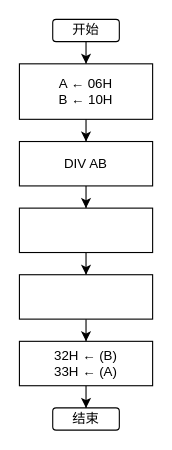
This 172x450 diagram has some shape labels left out. Each missing label, with the centre of its shape:
30H ← (B) 31H ← (A): the point at 85,230
ORL A, #30H ORL B, #30H: the point at 85,296
